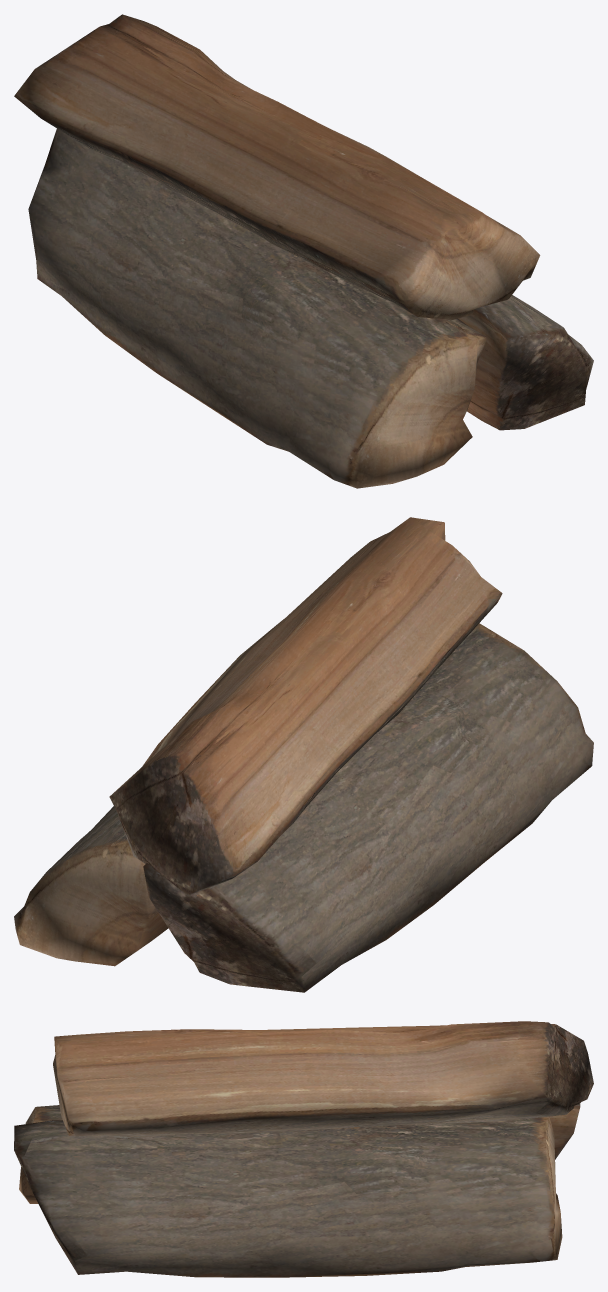
Rendered from Wood.fbx.
3 views of the same model, one above another, from view 1: azimuth 30°, elevation 25°; view 2: azimuth 150°, elevation 25°; view 3: azimuth 270°, elevation 25° (orthographic). The views are drawn at different scales.
Parts seen in each view (by area): view 1: SM_Wood001.mo; view 2: SM_Wood001.mo; view 3: SM_Wood001.mo.
Boxes of the visible parts, <box> form: SM_Wood001.mo: <box>14,14,593,488</box>; SM_Wood001.mo: <box>14,517,593,992</box>; SM_Wood001.mo: <box>14,1021,593,1277</box>.
Bounding box in the file's own units: 31.53 × 23.91 × 65.87.
